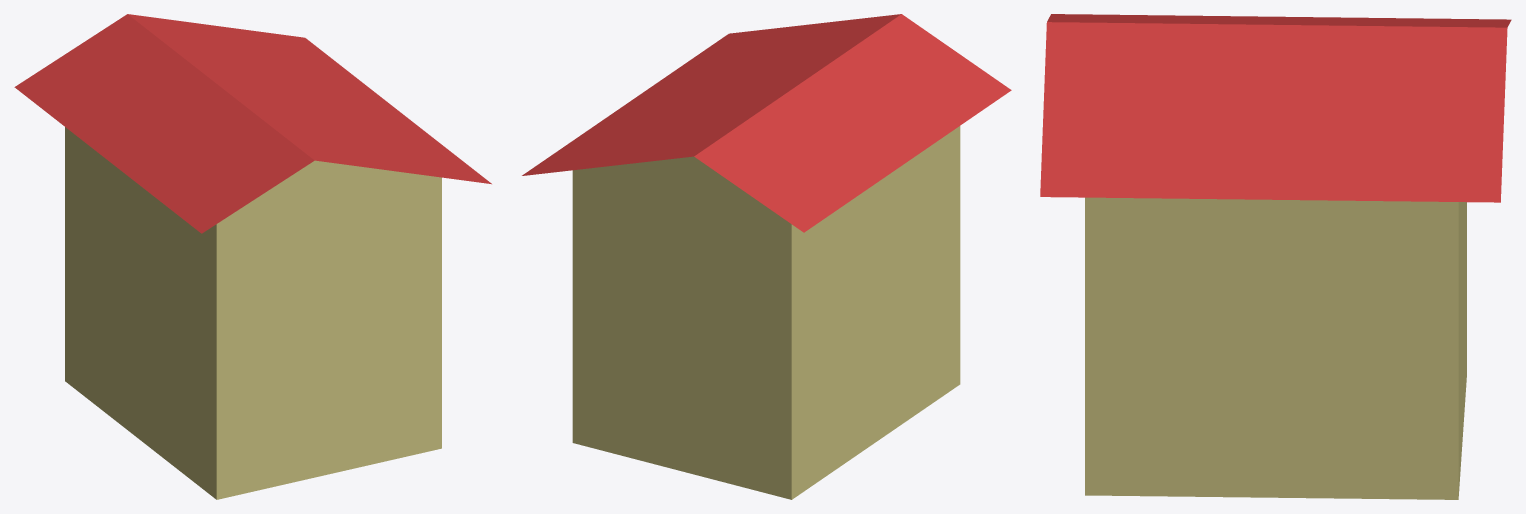
3 renders of one model, left to right at view 1: azimuth 30°, elevation 25°; view 2: azimuth 150°, elevation 25°; view 3: azimuth 270°, elevation 25°, orthographic. The views are drawn at different scales.
Size of the model in its own units: 6.89 by 8.13 by 7.45.
